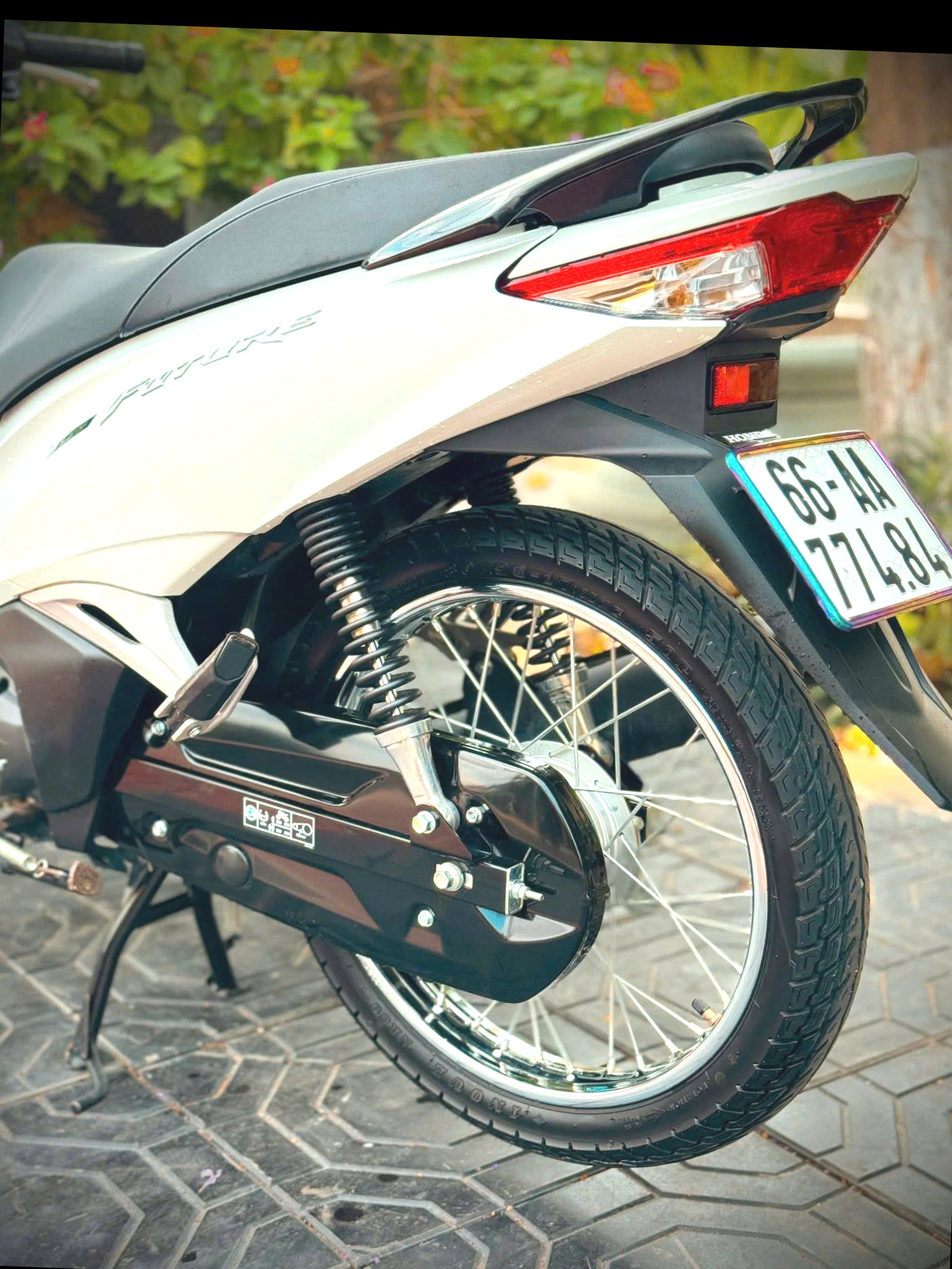Bien-so: (752, 413, 952, 610)
